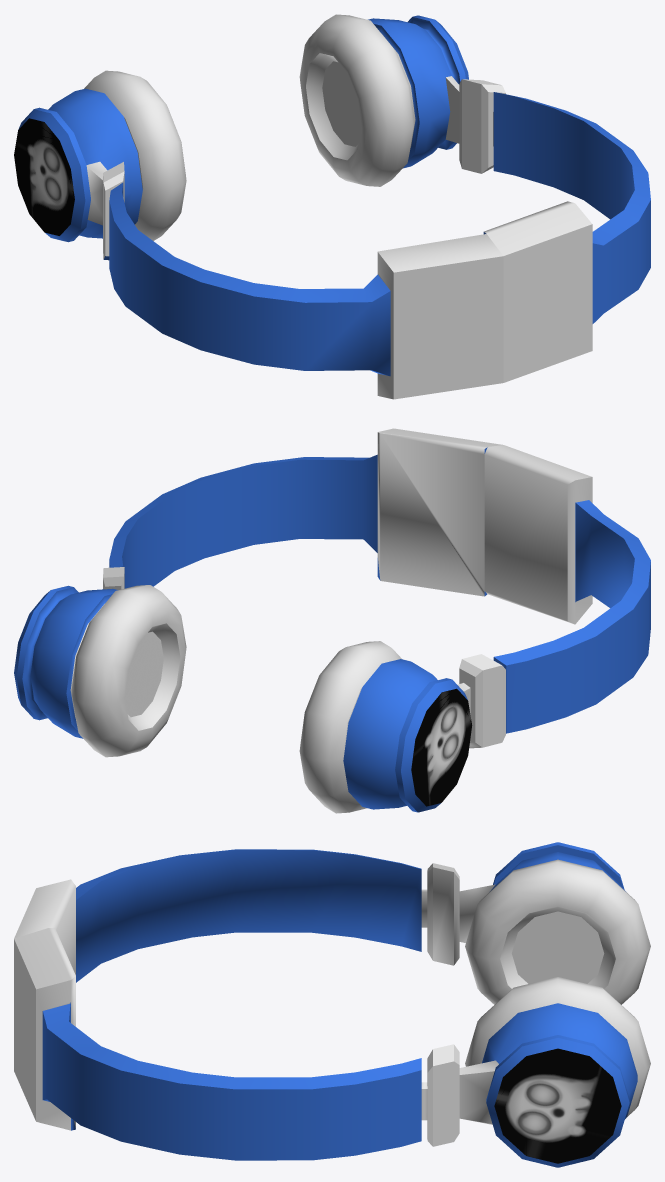
The model's file is Headphones.fbx.
3 renders of one model, top to bottom at view 1: azimuth 30°, elevation 25°; view 2: azimuth 150°, elevation 25°; view 3: azimuth 270°, elevation 25°, orthographic. The views are drawn at different scales.
Parts seen in each view (by area): view 1: Headphones; view 2: Headphones; view 3: Headphones.
Part boxes in pixels (bbox=[...]): Headphones: bbox=[14, 14, 650, 399]; Headphones: bbox=[14, 428, 650, 813]; Headphones: bbox=[14, 842, 650, 1167].
Bounding box in the file's own units: 24.57 × 8.05 × 27.57.
